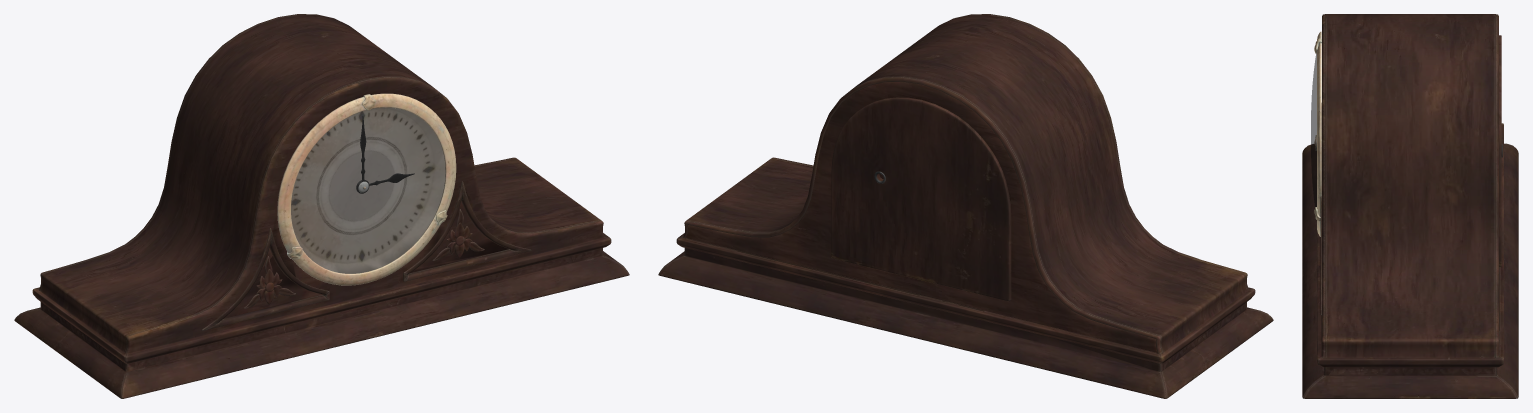
Rendered from polyhaven-mantel-clock-01.glb.
3 views of the same model, side by side, from view 1: azimuth 30°, elevation 25°; view 2: azimuth 150°, elevation 25°; view 3: azimuth 270°, elevation 25° (orthographic).
Visible parts, largest first — view 1: mantel_clock_01, mantel_clock_01_glass; view 2: mantel_clock_01; view 3: mantel_clock_01, mantel_clock_01_glass.
Boxes of the visible parts, x1,y1,x2,y2 form: mantel_clock_01: [14, 14, 629, 398]; mantel_clock_01_glass: [291, 107, 445, 273]; mantel_clock_01: [658, 14, 1273, 398]; mantel_clock_01: [1302, 14, 1518, 398]; mantel_clock_01_glass: [1311, 53, 1316, 207].
Bounding box in the file's own units: 0.3423 × 0.1605 × 0.1262.
Materials: 2 (2 with a texture image).
